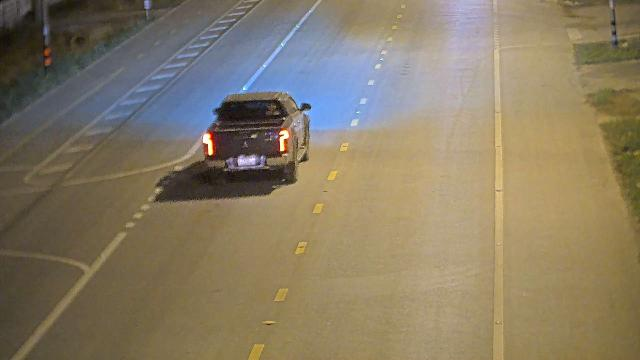pickup-truck: (201, 90, 311, 184)
